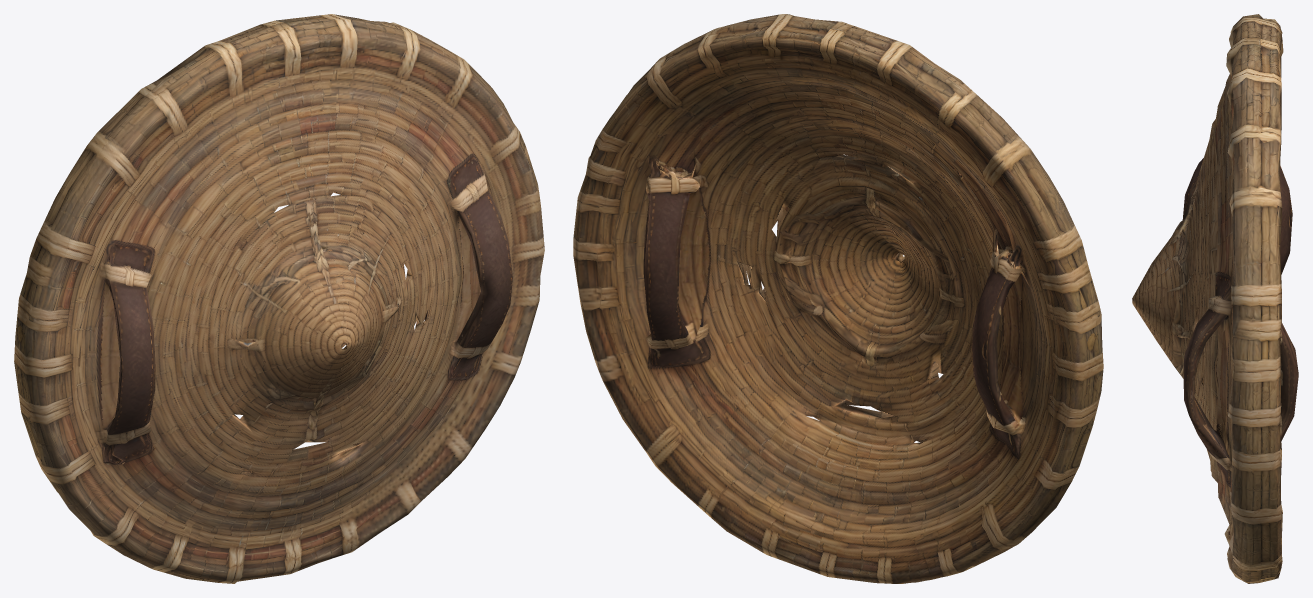
Rendered from PR_Weapon_Deungpae.fbx.
3 views of the same model, side by side, from view 1: azimuth 30°, elevation 25°; view 2: azimuth 150°, elevation 25°; view 3: azimuth 270°, elevation 25° (orthographic). The views are drawn at different scales.
Parts seen in each view (by area): view 1: texture_mapping; view 2: texture_mapping; view 3: texture_mapping.
Part boxes in pixels (left/top/right/bottom): texture_mapping: left=14, top=14, right=544, bottom=583; texture_mapping: left=573, top=14, right=1103, bottom=583; texture_mapping: left=1132, top=14, right=1298, bottom=583.
Size of the model in its own units: 0.9982 by 0.2937 by 1.
Materials: 1 (1 with a texture image).
